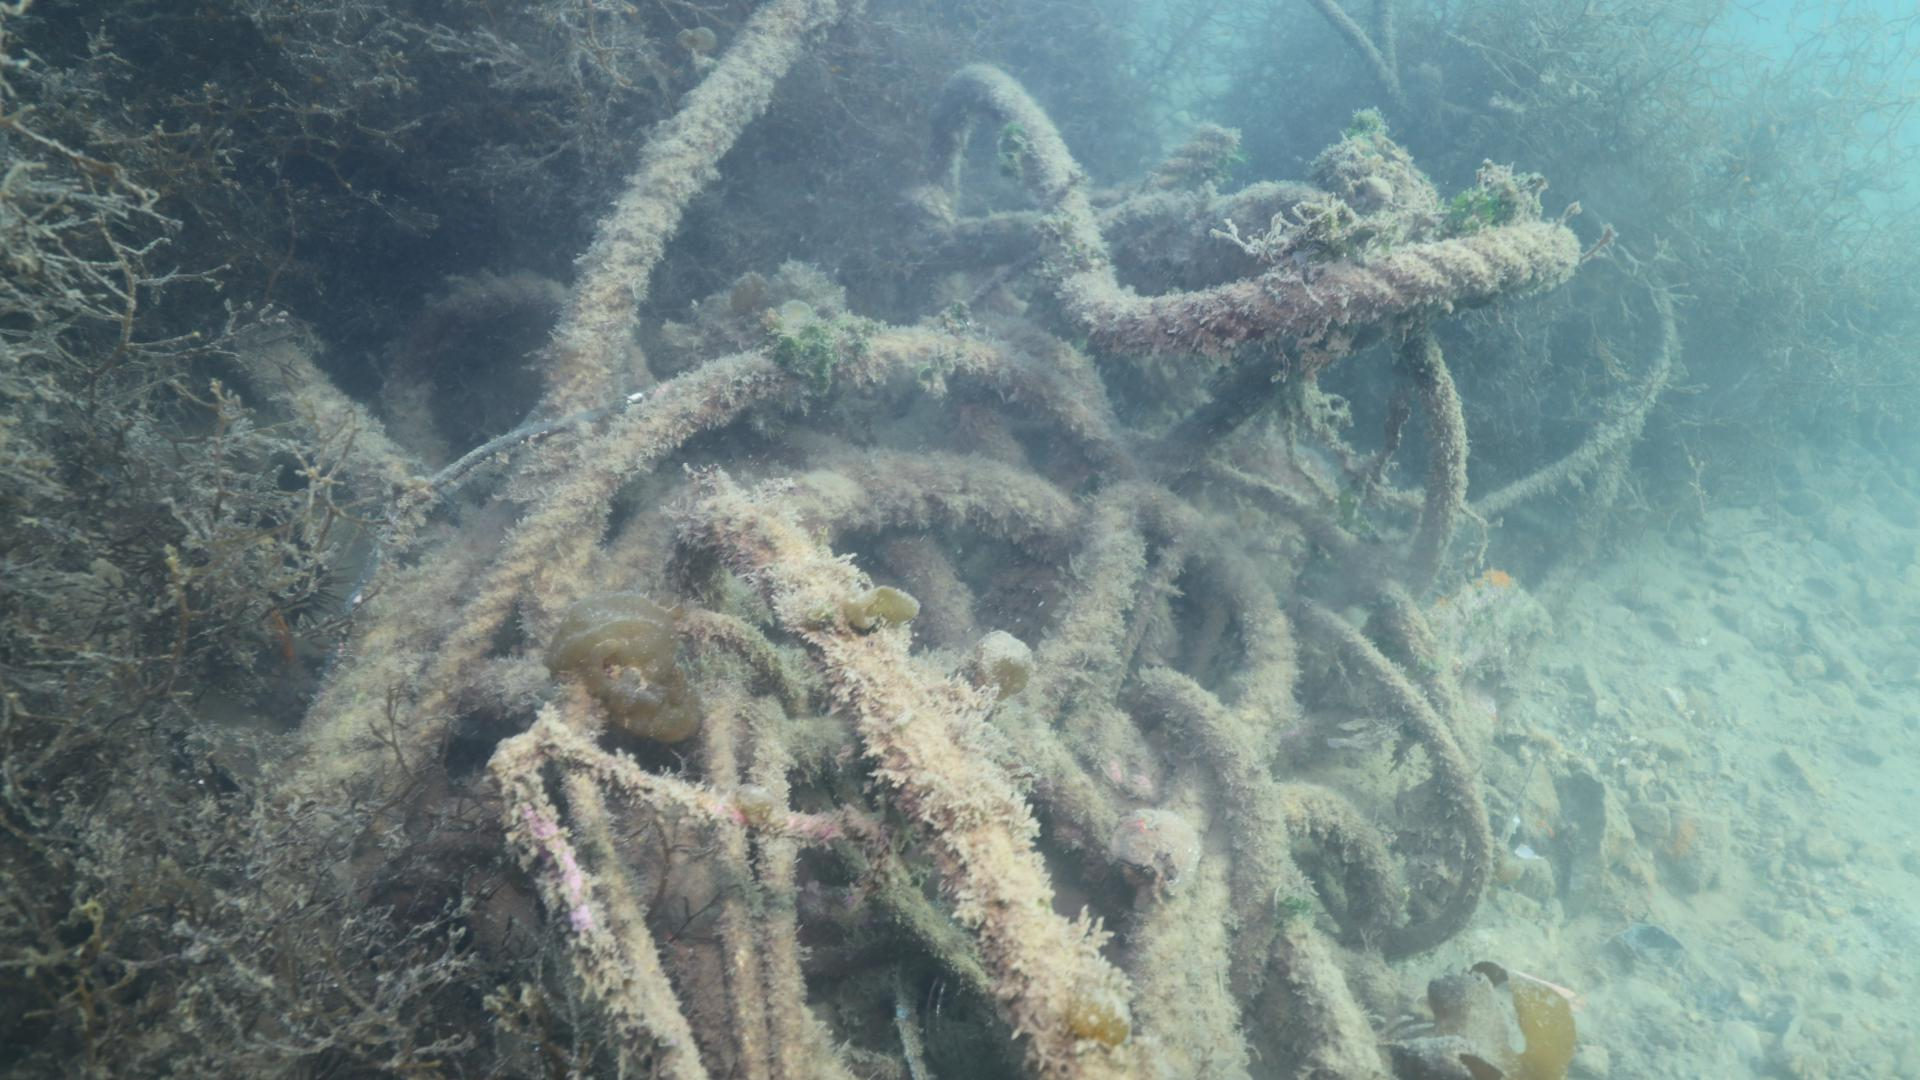bundle of ropes: (239, 5, 1592, 1080)
